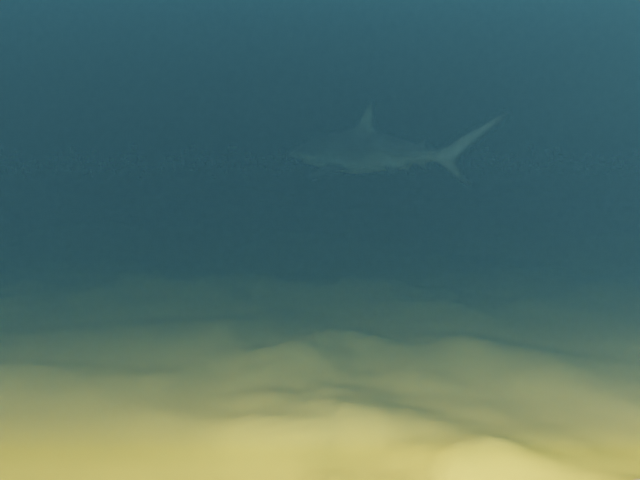Carribean Shark.001: (288, 102, 508, 184)
